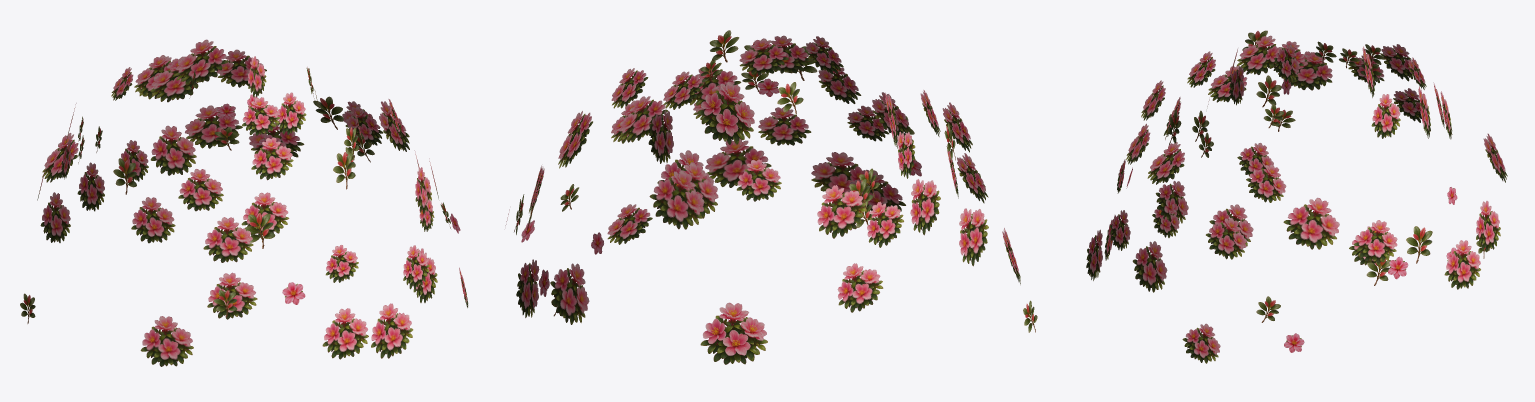
The model's file is azalea_sparse.glb.
3 views of the same model, side by side, from view 1: azimuth 30°, elevation 25°; view 2: azimuth 150°, elevation 25°; view 3: azimuth 270°, elevation 25° (orthographic). The views are drawn at different scales.
Parts seen in each view (by area): view 1: azalea_sparse; view 2: azalea_sparse; view 3: azalea_sparse.
Boxes of the visible parts, box(x1,y1,x2,y2) form: azalea_sparse: box(20, 39, 468, 366); azalea_sparse: box(505, 30, 1037, 364); azalea_sparse: box(1086, 30, 1507, 363).
Size of the model in its own units: 1.66 by 1.04 by 1.53.
3 materials, 3 textured.
